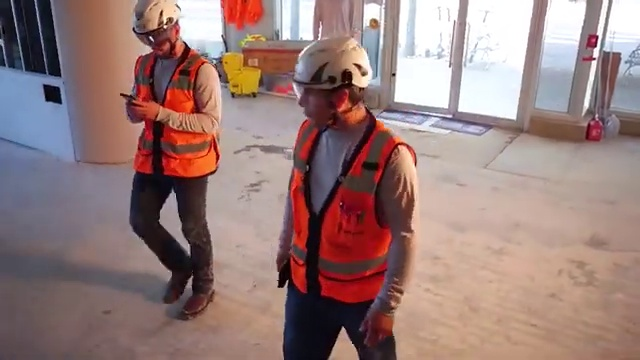helmet: (289, 35, 384, 95), (130, 1, 196, 39)
jacket: (289, 106, 400, 304), (128, 48, 222, 175)
